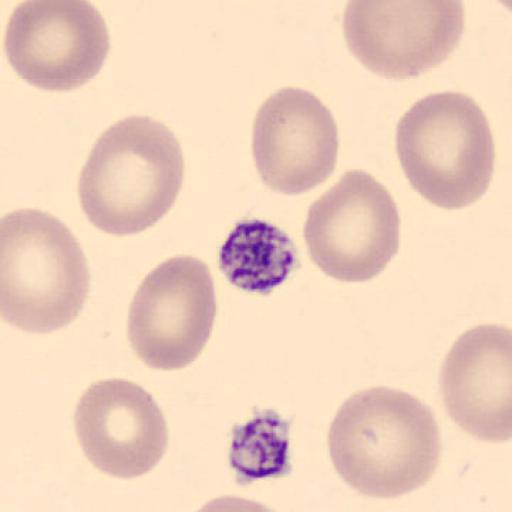Platelet: (216, 215, 302, 296), (224, 406, 297, 488)
RBC: (76, 112, 186, 239), (325, 383, 443, 501), (393, 90, 497, 212), (301, 166, 402, 285), (2, 206, 92, 336), (124, 252, 218, 372), (2, 0, 112, 95), (340, 0, 466, 82), (249, 85, 341, 197), (72, 377, 170, 481), (436, 321, 512, 445), (187, 488, 312, 512), (177, 492, 297, 512)
